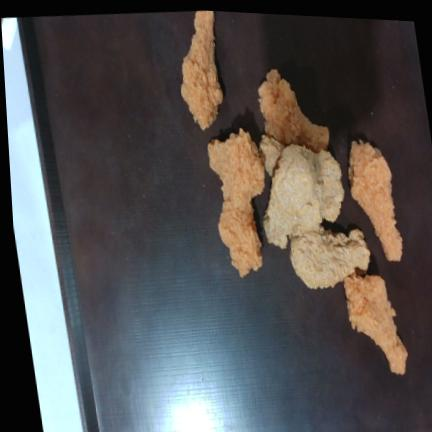chicken: (348, 140, 402, 261), (344, 273, 407, 374), (258, 69, 329, 152), (290, 226, 370, 289), (181, 11, 223, 130), (264, 145, 312, 248), (208, 128, 264, 206), (218, 200, 262, 277)
